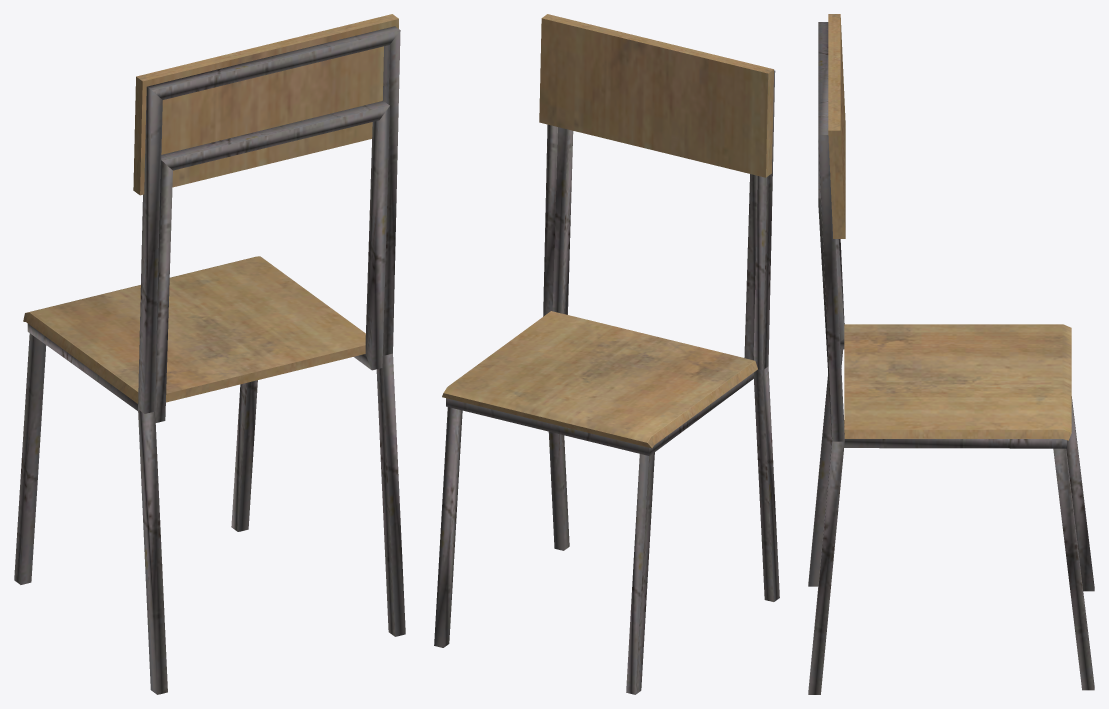
Rendered from Prop_Jsyz01.glb.
3 renders of one model, left to right at view 1: azimuth 30°, elevation 25°; view 2: azimuth 150°, elevation 25°; view 3: azimuth 270°, elevation 25°, orthographic. The views are drawn at different scales.
Parts seen in each view (by area): view 1: xiutz_jsyz_01; view 2: xiutz_jsyz_01; view 3: xiutz_jsyz_01.
Part boxes in pixels (<box>): xiutz_jsyz_01: <box>14,14,405,694</box>; xiutz_jsyz_01: <box>434,14,779,694</box>; xiutz_jsyz_01: <box>808,14,1094,694</box>.
Size of the model in its own units: 0.7782 by 1.76 by 0.8059.
1 material, 1 textured.
